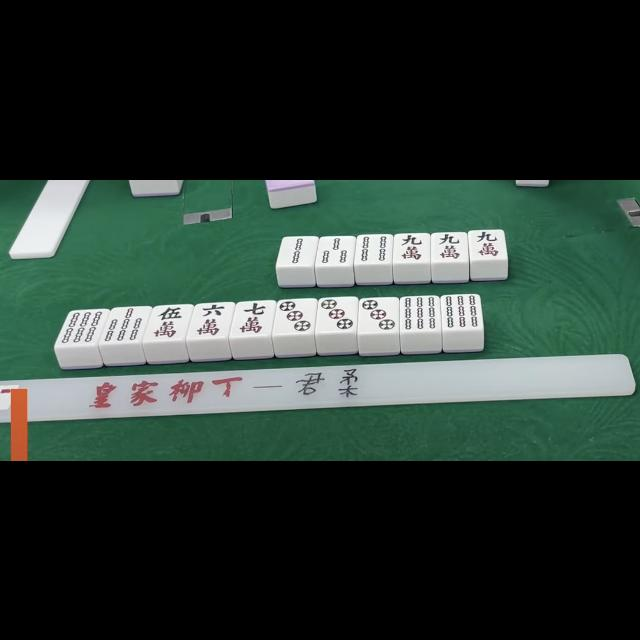b2: (281, 237, 313, 266)
b3: (315, 234, 355, 264)
b4: (356, 234, 392, 262)
b6: (59, 308, 102, 346)
b7: (104, 308, 144, 342)
b9: (442, 294, 482, 330), (400, 296, 440, 330)
c5: (149, 305, 187, 341)
c6: (191, 302, 231, 338)
c7: (234, 300, 272, 336)
c9: (470, 229, 506, 259), (432, 232, 468, 262), (394, 232, 428, 262)
d3: (273, 298, 315, 334), (316, 296, 358, 332), (358, 297, 400, 333)
